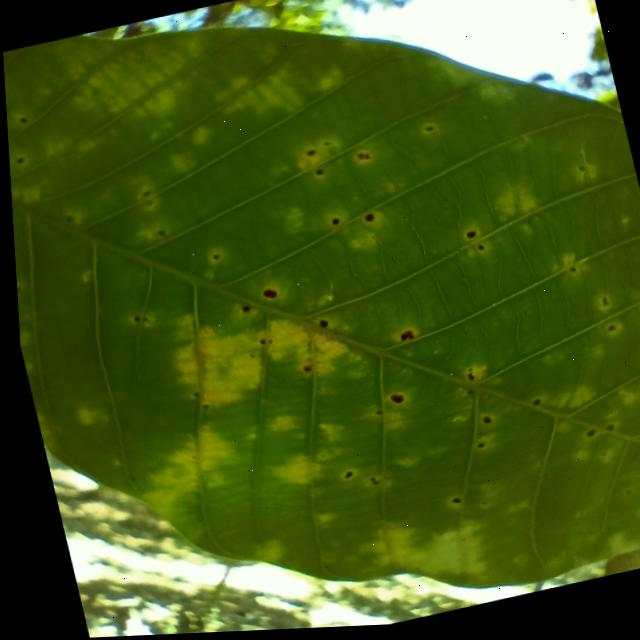Colletotrichum: (384, 395, 399, 408), (259, 290, 273, 302), (361, 216, 373, 225), (463, 234, 472, 243), (328, 221, 338, 228), (315, 322, 323, 330), (238, 307, 247, 314)
